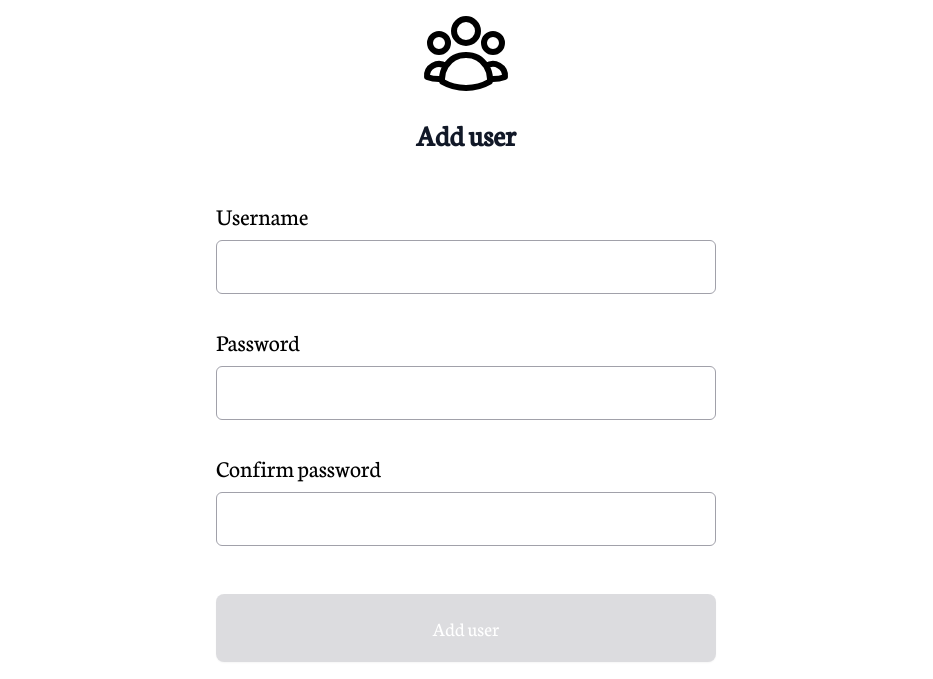
Test: Add User page › successful response generates success alert
Type "Test string" into the field labelled "Username". click: (466, 267)
box: left=216, top=240, right=716, bottom=294
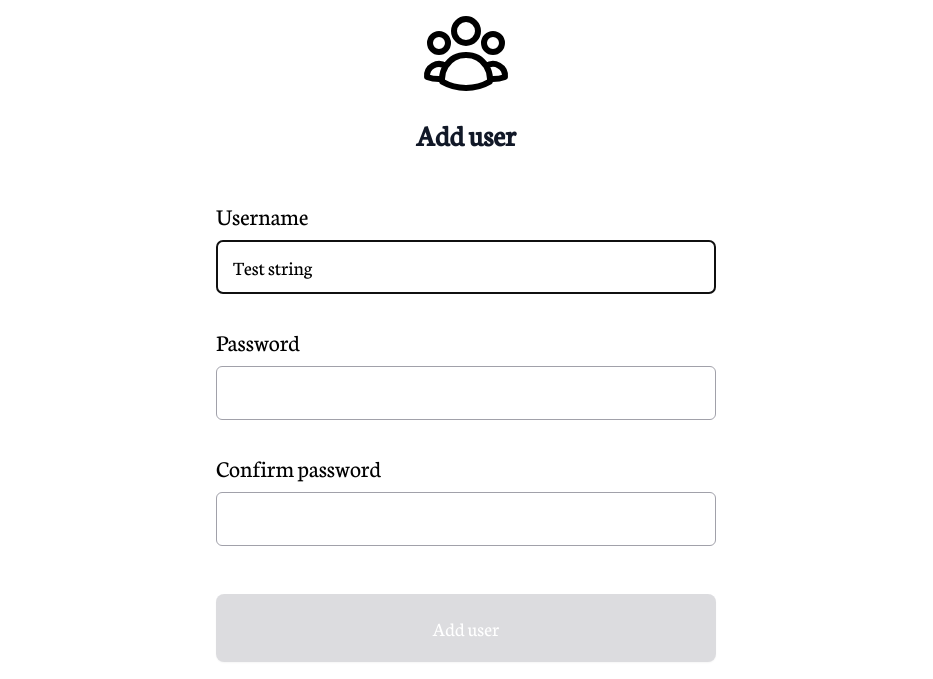
Type "Test string" into the password field labelled "Password". click: (466, 393)
box: left=216, top=366, right=716, bottom=420
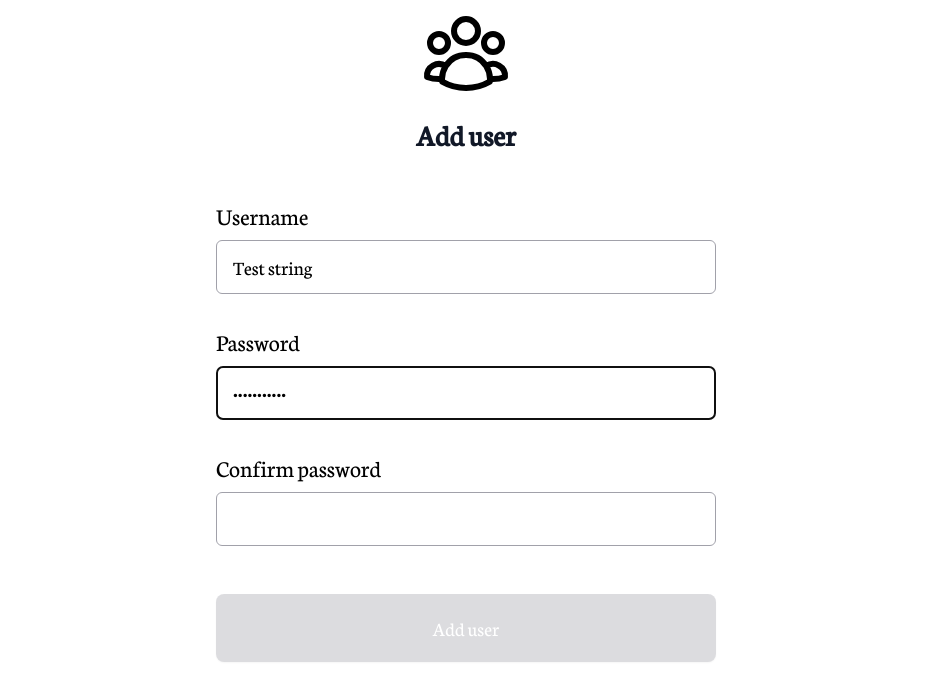
Type "Test string" into the password field labelled "Confirm password". click: (466, 519)
box: left=216, top=492, right=716, bottom=546
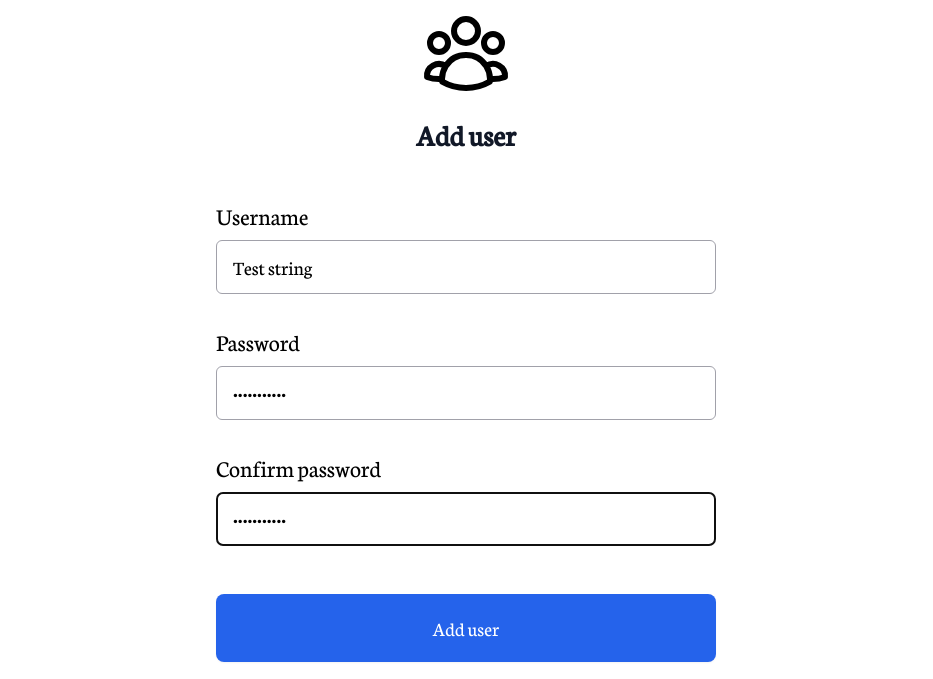
Click the button "Add user". click: click(466, 628)
box: left=216, top=594, right=716, bottom=662
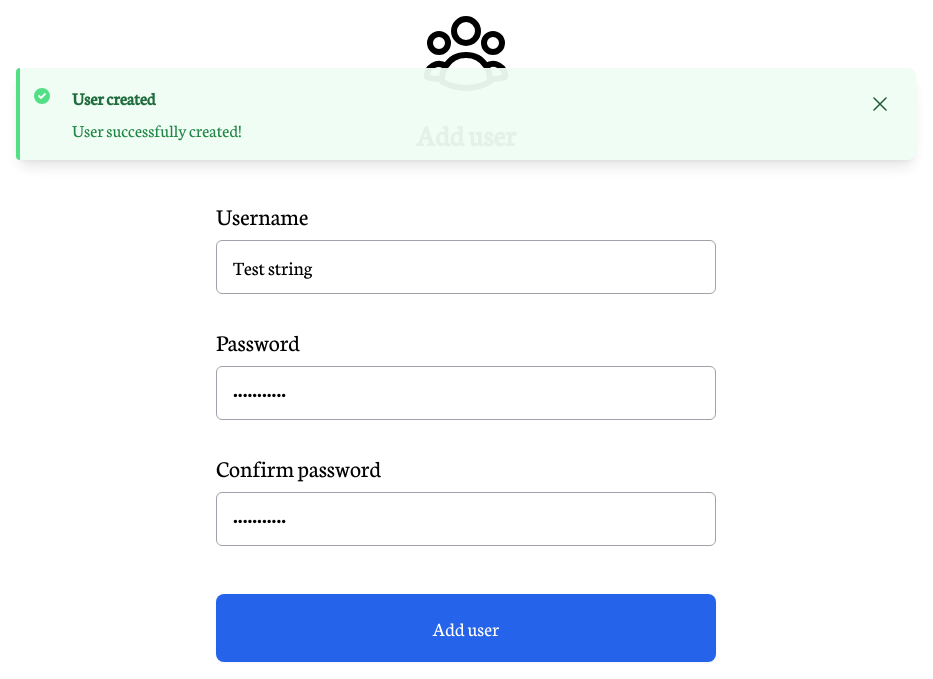
Now the message "User created User successfully created!" is shown, box left=16, top=68, right=916, bottom=160
Now the heading "User created" is shown, box left=72, top=86, right=155, bottom=109
Now the text "User successfully created!" is shown, box left=72, top=116, right=242, bottom=144
